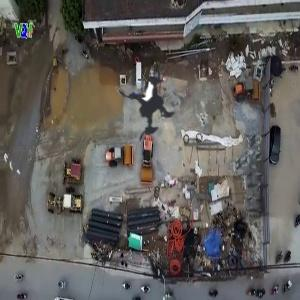drone: (90, 41, 223, 174)
